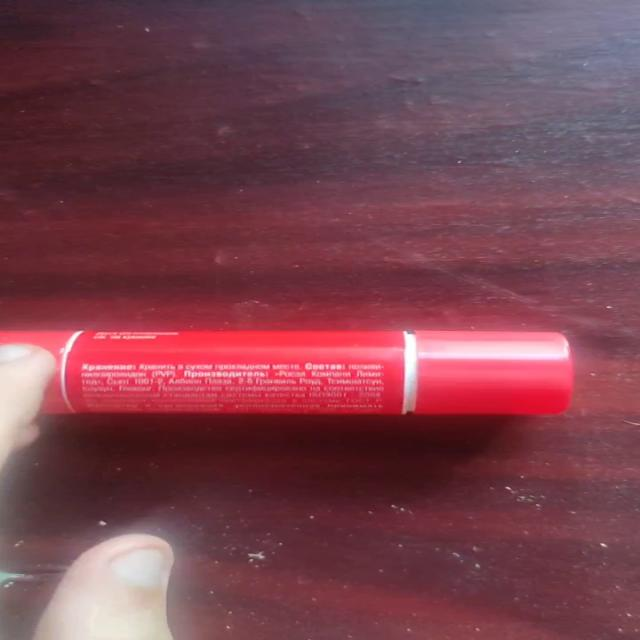glue: (1, 327, 575, 417)
